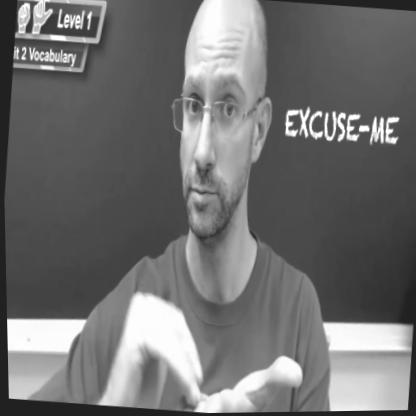ExcuseMe: (65, 267, 314, 415)
